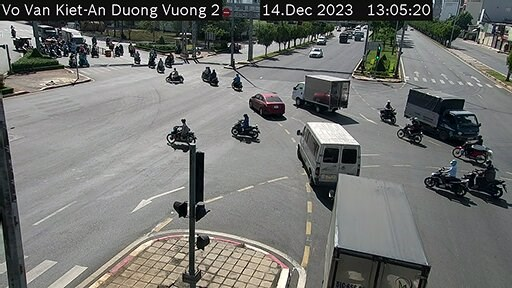car: (293, 121, 358, 175), (247, 93, 288, 121), (308, 47, 323, 59)
motorbike: (456, 133, 490, 167), (475, 158, 506, 195), (435, 160, 466, 196), (166, 116, 198, 148), (233, 113, 260, 140), (403, 116, 425, 143), (382, 97, 396, 121), (230, 72, 246, 91)
truck: (315, 172, 433, 282), (408, 80, 484, 140), (292, 71, 356, 111)
